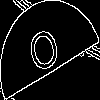O: (25, 25, 66, 84)
